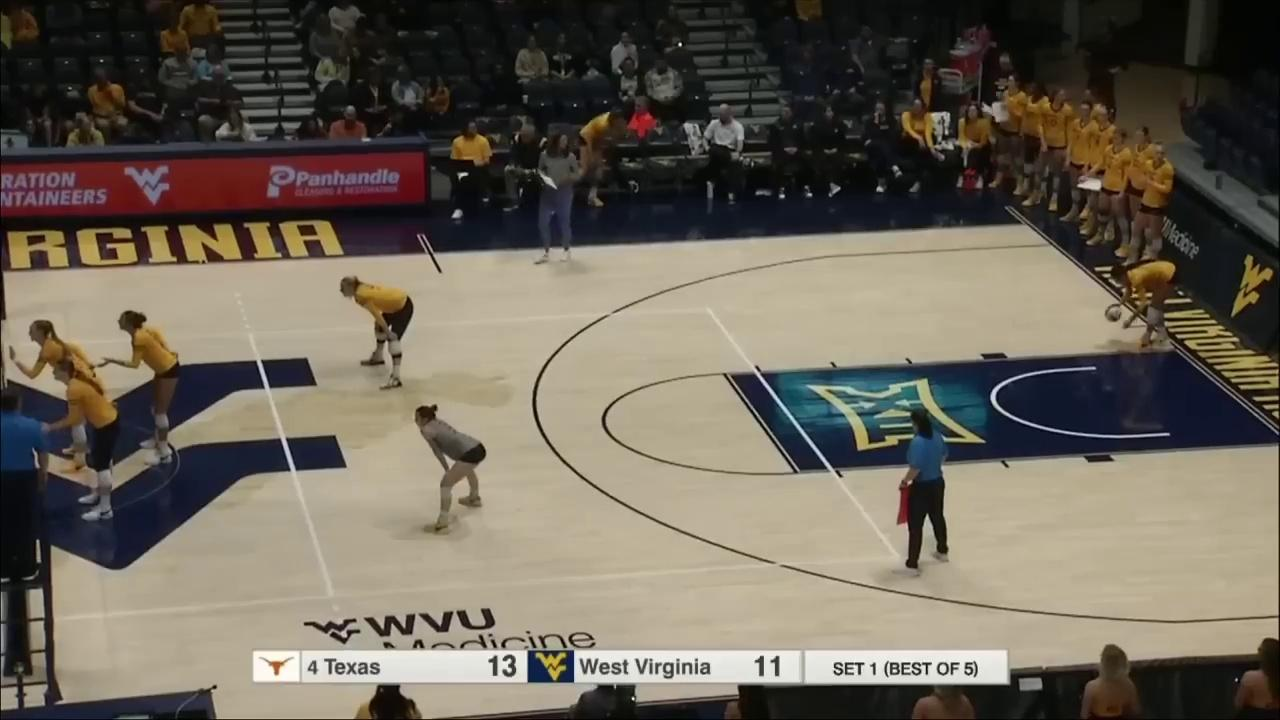player: (54, 361, 119, 522), (28, 322, 95, 474), (412, 407, 487, 536), (339, 275, 421, 392), (121, 311, 178, 464), (1109, 259, 1177, 346)
refree: (0, 396, 42, 580), (900, 414, 947, 571)
